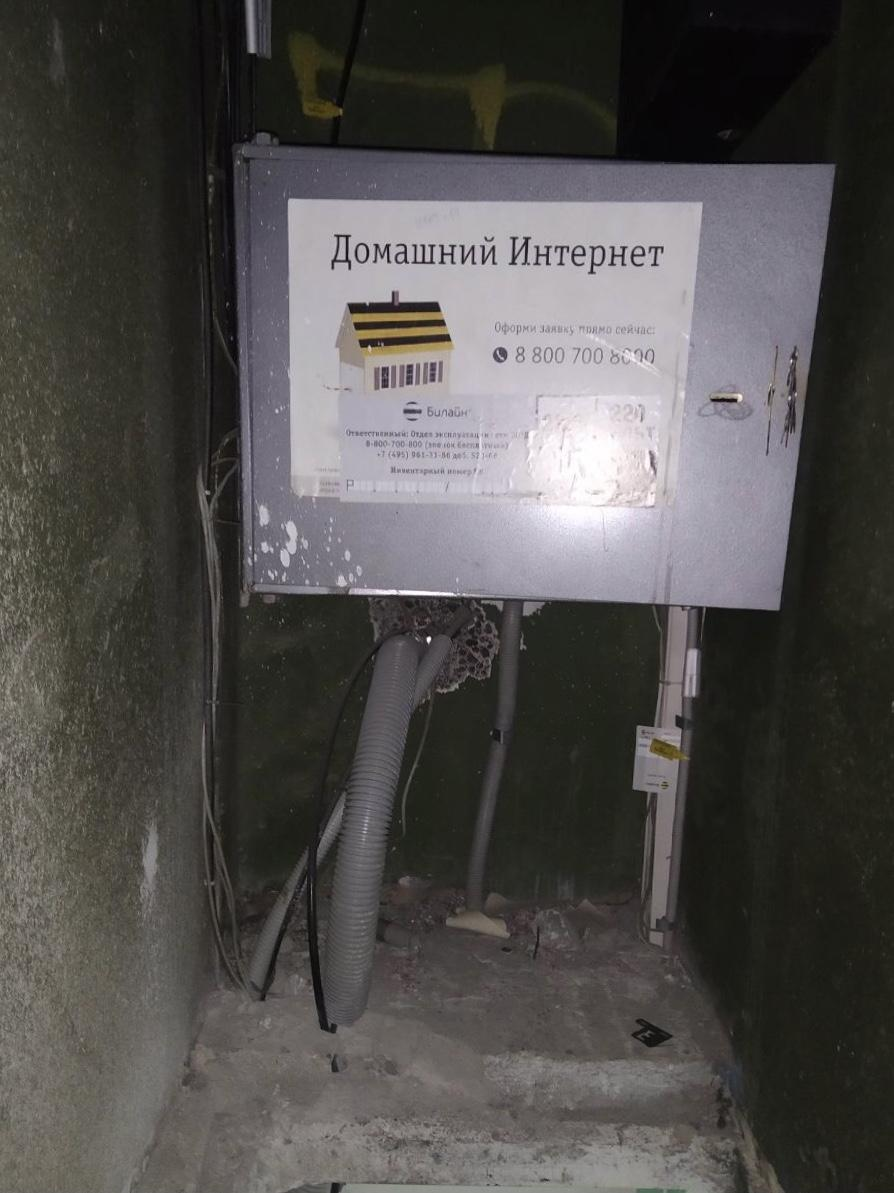shta-9m: (218, 127, 842, 618)
